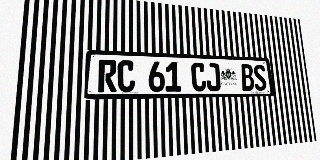1: (165, 62, 181, 92)
6: (148, 61, 165, 92)
B: (240, 64, 255, 91)
C: (117, 60, 135, 92), (191, 62, 206, 91)
J: (205, 63, 221, 91)
R: (98, 59, 117, 92)
S: (253, 64, 267, 91)
